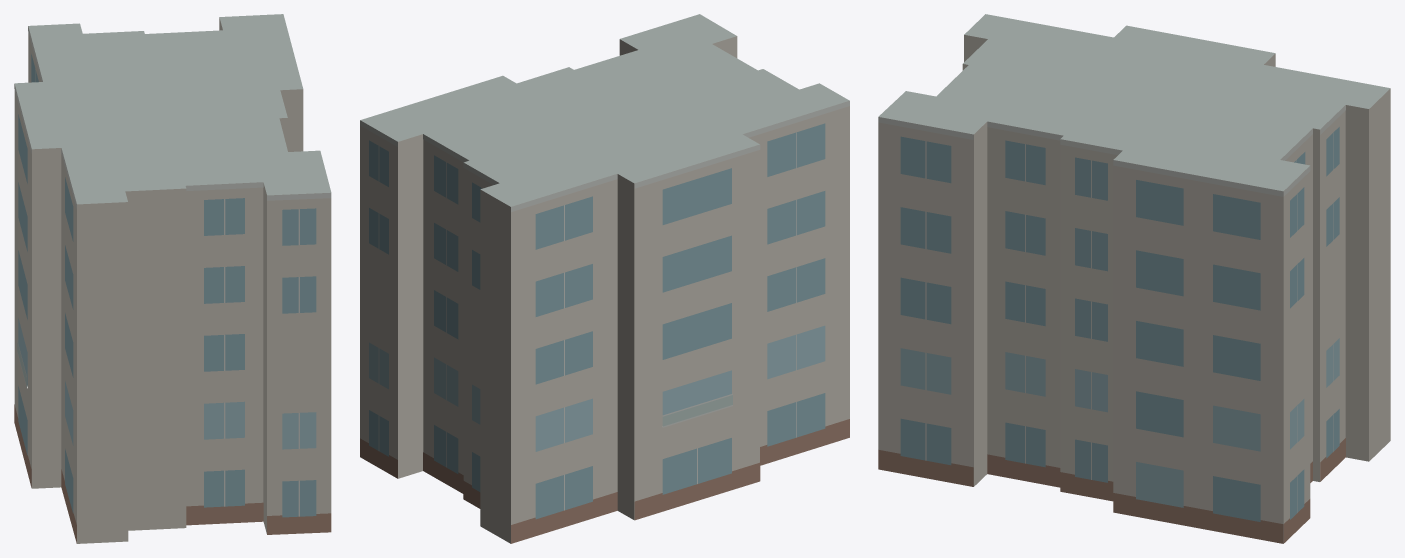
File: survey-upis-32523938.glb
3 views of the same model, side by side, from view 1: azimuth 30°, elevation 25°; view 2: azimuth 150°, elevation 25°; view 3: azimuth 270°, elevation 25° (orthographic). The views are drawn at different scales.
Visible parts, largest first — view 1: survey-upis-32523938.tmp; view 2: survey-upis-32523938.tmp; view 3: survey-upis-32523938.tmp.
Part boxes in pixels (box(x1,y1,x2,y2)): survey-upis-32523938.tmp: box(14, 14, 331, 543); survey-upis-32523938.tmp: box(360, 14, 849, 543); survey-upis-32523938.tmp: box(878, 14, 1390, 543).
Size of the model in its own units: 16.62 by 15.4 by 20.3.
